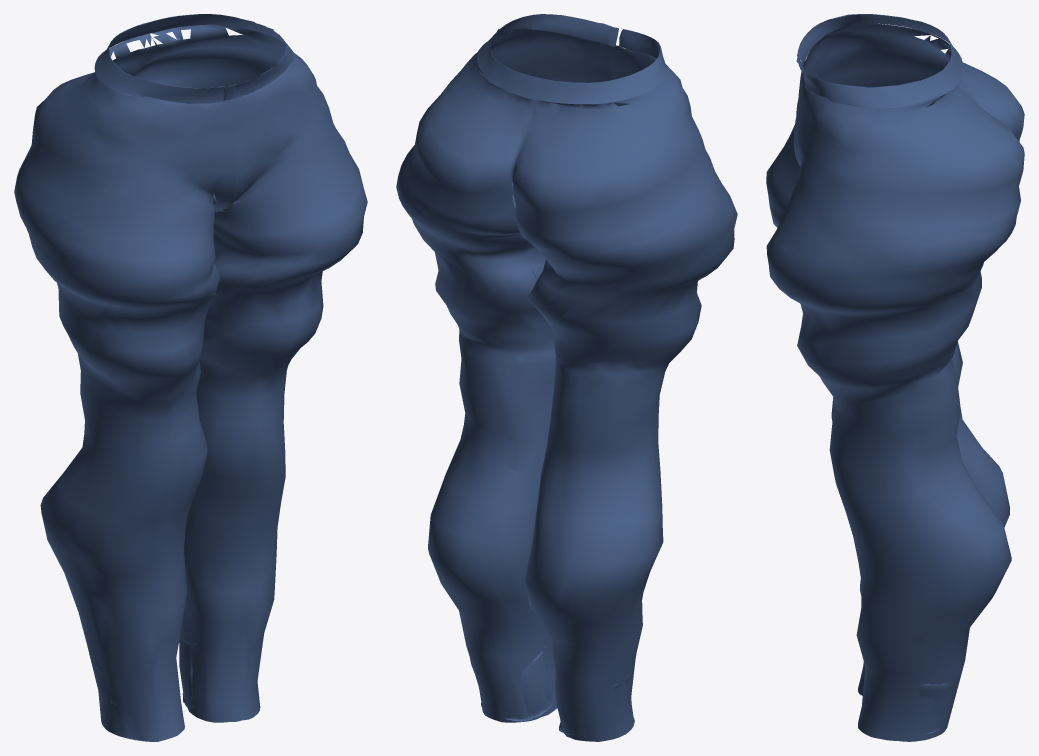
Rendered from bottom_m2_jeans.glb.
The picture shows the model from 3 angles, left to right: view 1: azimuth 30°, elevation 25°; view 2: azimuth 150°, elevation 25°; view 3: azimuth 270°, elevation 25°; orthographic projection. The views are drawn at different scales.
Visible parts, largest first — view 1: bottom_m2_jeans; view 2: bottom_m2_jeans; view 3: bottom_m2_jeans.
Part boxes in pixels (x1,y1,x2,y2): bottom_m2_jeans: (14,14,367,741); bottom_m2_jeans: (396,14,737,741); bottom_m2_jeans: (766,14,1024,741).
Bounding box in the file's own units: 0.4616 × 0.9726 × 0.346.
Materials: 1 (1 with a texture image).
